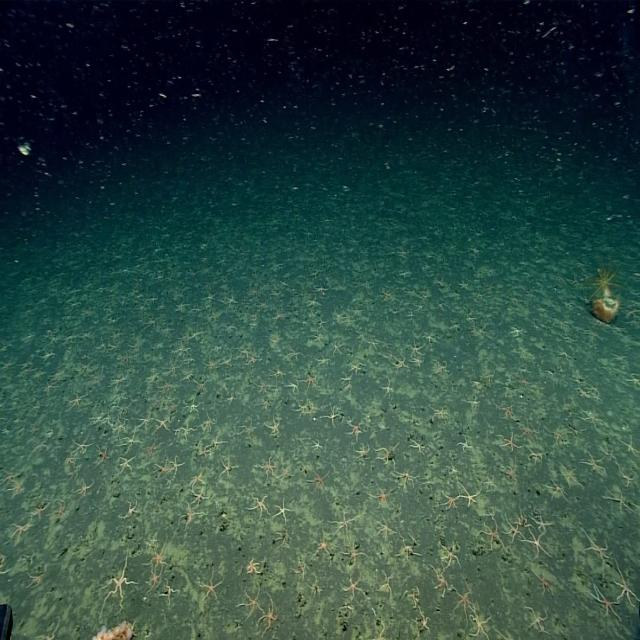brittle-stars: (102, 551, 136, 610), (613, 565, 639, 607), (590, 585, 620, 621), (330, 507, 359, 539), (197, 566, 222, 601), (452, 582, 475, 620), (584, 531, 610, 563), (603, 486, 632, 514), (523, 528, 550, 557), (258, 596, 279, 632), (431, 564, 453, 596), (238, 588, 262, 617), (470, 608, 491, 639), (341, 573, 364, 601), (147, 540, 169, 569), (396, 533, 418, 562), (478, 521, 500, 550), (458, 483, 481, 508), (525, 605, 547, 631), (8, 520, 31, 544), (374, 444, 398, 467), (370, 482, 391, 508), (343, 541, 364, 566), (70, 434, 93, 456), (580, 406, 602, 429), (313, 528, 331, 556), (582, 453, 606, 474), (560, 462, 578, 490), (179, 503, 199, 528), (145, 565, 162, 594), (546, 480, 568, 502), (249, 494, 269, 518), (440, 543, 460, 567), (502, 515, 522, 539), (395, 468, 418, 488), (162, 578, 178, 606), (322, 404, 339, 430), (620, 436, 640, 458), (376, 513, 392, 540), (307, 468, 328, 488), (497, 433, 519, 452), (519, 420, 538, 442), (220, 452, 236, 478), (441, 491, 460, 512), (76, 478, 95, 498), (68, 389, 86, 410), (258, 456, 276, 477), (123, 496, 140, 518), (277, 463, 294, 485), (536, 570, 552, 593), (273, 498, 288, 522), (301, 371, 319, 391), (552, 426, 566, 451), (9, 476, 25, 497), (534, 513, 550, 534), (266, 413, 281, 435), (31, 502, 49, 520), (190, 486, 207, 505), (178, 421, 195, 440), (417, 609, 431, 632), (381, 375, 395, 398), (118, 455, 135, 473), (409, 437, 426, 455), (407, 340, 424, 358), (266, 331, 284, 348), (254, 376, 271, 394), (501, 404, 516, 424), (201, 412, 216, 432), (114, 414, 128, 435), (433, 358, 450, 375), (246, 558, 262, 576), (240, 420, 256, 438), (354, 444, 370, 461), (528, 448, 545, 464), (153, 417, 170, 433), (503, 462, 518, 480), (136, 413, 151, 431), (169, 455, 183, 474), (458, 435, 472, 454), (348, 419, 362, 438), (294, 398, 308, 417), (144, 439, 159, 456), (54, 500, 67, 519), (188, 474, 205, 488), (483, 474, 497, 491), (286, 378, 300, 394), (97, 447, 109, 465), (432, 407, 450, 419), (334, 306, 346, 324), (349, 360, 364, 374), (166, 359, 180, 374), (187, 397, 200, 413), (205, 354, 217, 371), (190, 325, 202, 342), (156, 460, 170, 474), (316, 352, 330, 366), (288, 348, 302, 362), (306, 295, 321, 308), (225, 292, 238, 307), (518, 374, 531, 389), (234, 346, 250, 358), (467, 396, 480, 410), (410, 356, 425, 368), (212, 434, 224, 449), (395, 354, 406, 370), (270, 366, 284, 378), (351, 304, 363, 318), (367, 337, 378, 352), (109, 377, 125, 387), (332, 342, 344, 355), (160, 379, 172, 392), (167, 400, 180, 412), (65, 452, 76, 466), (307, 402, 318, 416), (510, 325, 522, 337), (314, 283, 326, 295), (312, 438, 322, 452), (381, 336, 391, 349), (203, 291, 216, 301), (248, 351, 257, 365), (198, 447, 208, 458), (314, 332, 323, 344), (262, 398, 270, 409)
